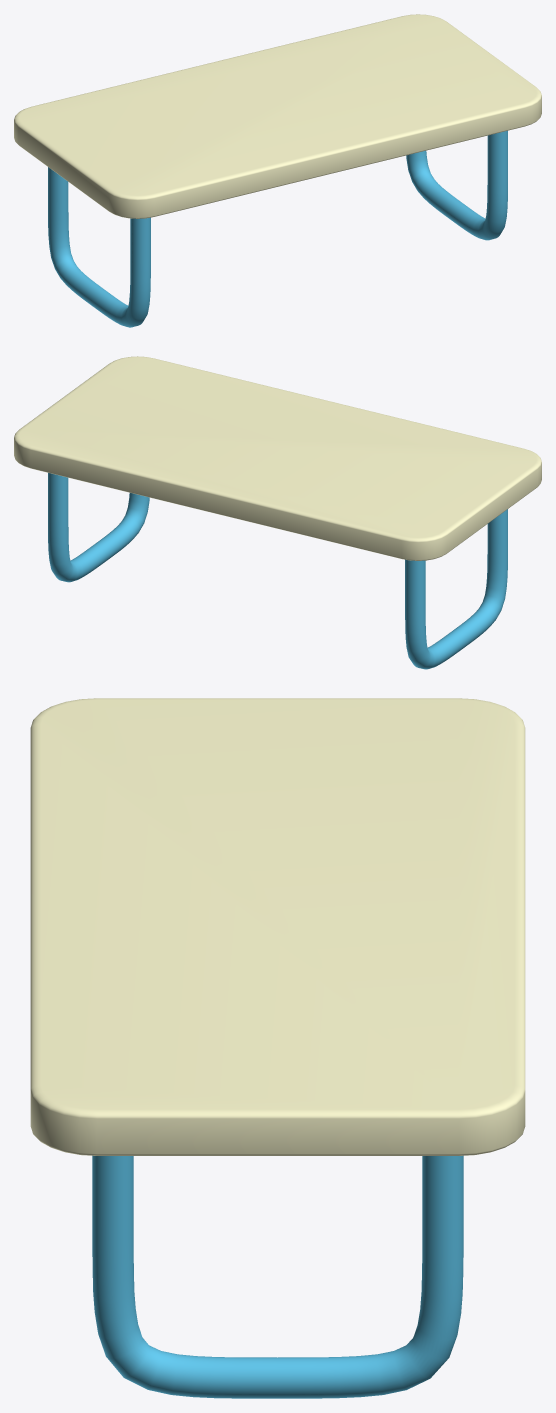
Rendered from Table.fbx.
The picture shows the model from 3 angles, top to bottom: view 1: azimuth 30°, elevation 25°; view 2: azimuth 150°, elevation 25°; view 3: azimuth 270°, elevation 25°; orthographic projection. The views are drawn at different scales.
Parts seen in each view (by area): view 1: Cube.002; view 2: Cube.002; view 3: Cube.002.
Part boxes in pixels (left/top/right/bottom): Cube.002: left=14, top=14, right=541, bottom=327; Cube.002: left=14, top=356, right=541, bottom=669; Cube.002: left=30, top=698, right=525, bottom=1398.
Size of the model in its own units: 2.4 by 0.85 by 1.2.
